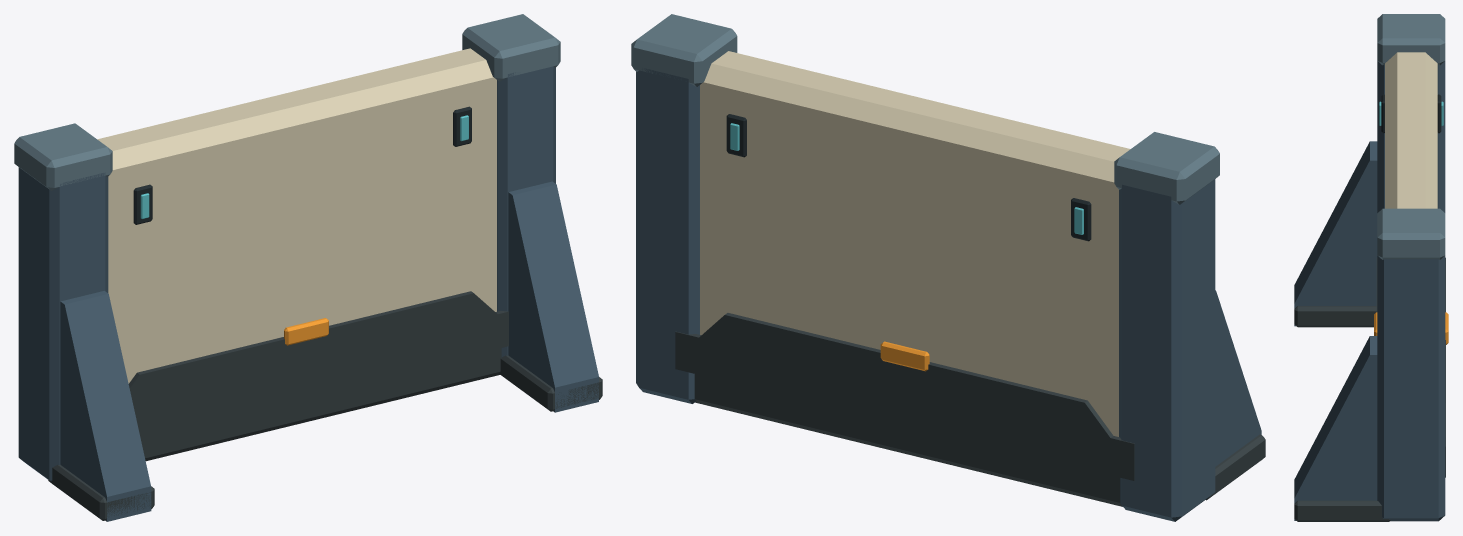
The model's file is emergency-barricade.glb.
3 views of the same model, side by side, from view 1: azimuth 30°, elevation 25°; view 2: azimuth 150°, elevation 25°; view 3: azimuth 270°, elevation 25° (orthographic). The views are drawn at different scales.
Visible parts, largest first — view 1: emergency-barricade; view 2: emergency-barricade; view 3: emergency-barricade.
Boxes of the visible parts, left/top/right/bottom form: emergency-barricade: left=14, top=14, right=602, bottom=521; emergency-barricade: left=631, top=14, right=1265, bottom=521; emergency-barricade: left=1294, top=14, right=1448, bottom=521.
Bounding box in the file's own units: 2.8 × 1.7 × 0.8175.
Materials: 1 (1 with a texture image).
